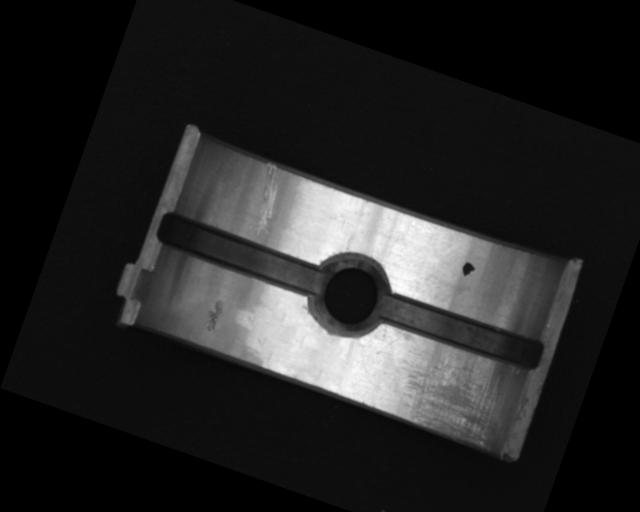blot: (459, 258, 477, 279)
bruise: (200, 296, 230, 335)
gap: (153, 207, 330, 302), (372, 286, 546, 376)
hole: (301, 244, 400, 346)
nick: (244, 162, 289, 236)
scratch: (385, 334, 525, 455)
